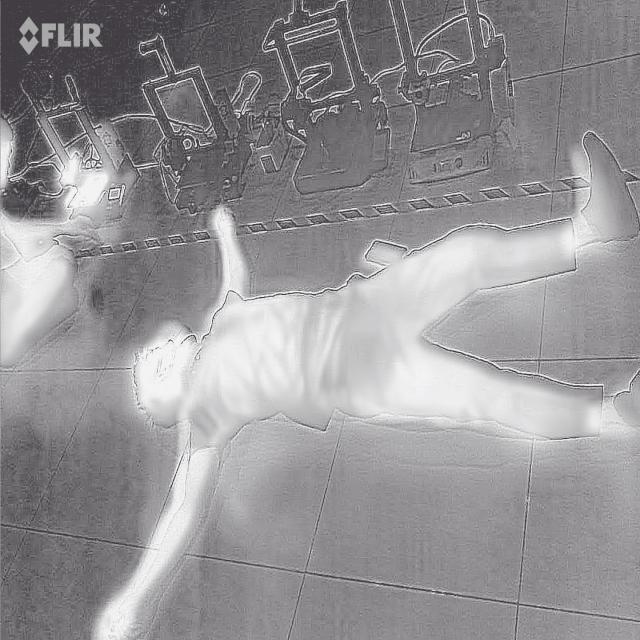Victim: (92, 125, 639, 637), (0, 105, 108, 373)
